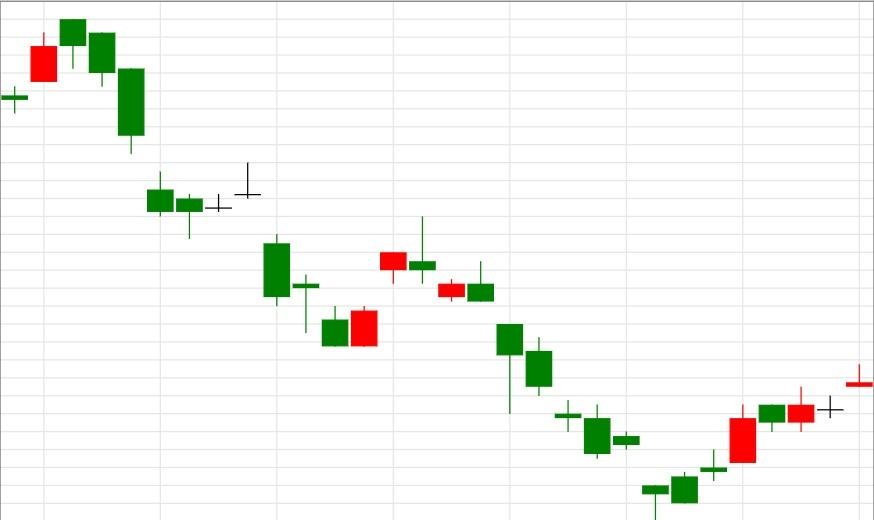bullish_engulfing_rise: (233, 161, 379, 348)
